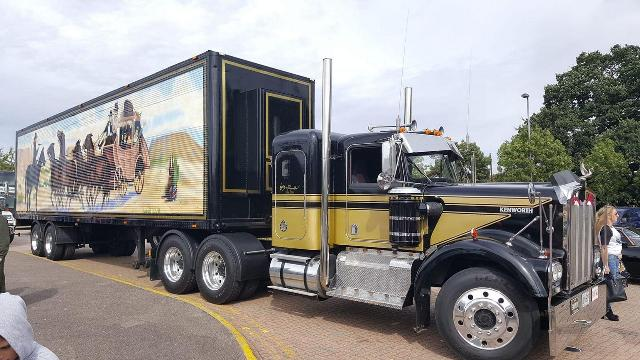truck: (15, 64, 599, 336)
